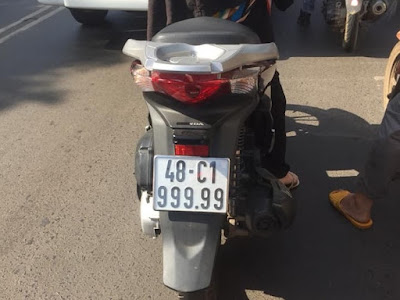bien_so: (149, 154, 233, 216)
